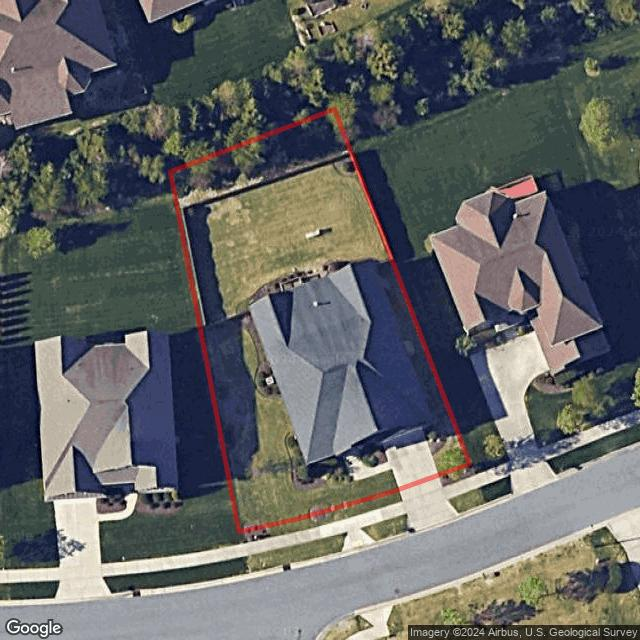Driveway: (380, 425, 440, 491)
Extra-Driveway: (399, 475, 460, 531)
Extra-Lawn: (239, 488, 403, 543), (249, 532, 348, 573), (360, 514, 412, 541), (438, 463, 475, 488), (447, 489, 485, 513)
Extra-Sidewalk: (243, 500, 408, 555), (442, 476, 479, 500)
House: (247, 258, 436, 466)
Lawn: (170, 108, 470, 533)
Other: (236, 259, 373, 398), (169, 107, 351, 210), (286, 431, 346, 490), (357, 442, 387, 468)
Sidewalk: (341, 448, 392, 481)
